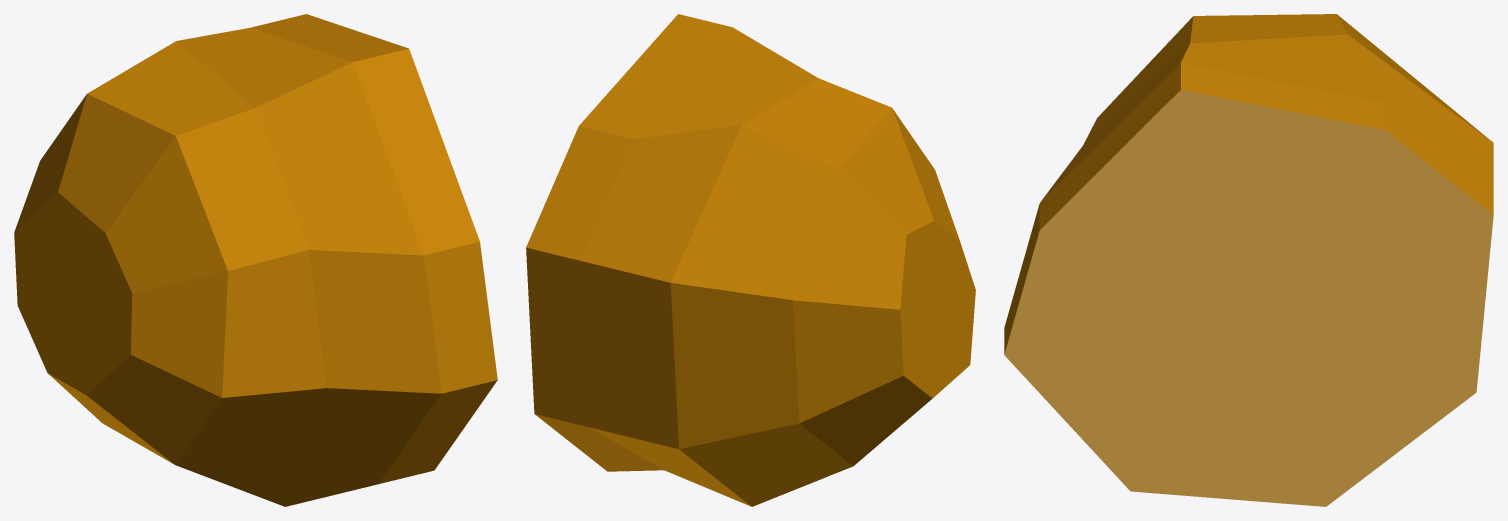
File: potato02.gltf
3 renders of one model, left to right at view 1: azimuth 30°, elevation 25°; view 2: azimuth 150°, elevation 25°; view 3: azimuth 270°, elevation 25°, orthographic. The views are drawn at different scales.
Parts seen in each view (by area): view 1: Cylinder.001; view 2: Cylinder.001; view 3: Cylinder.001.
Boxes of the visible parts, bbox=[...] form: Cylinder.001: bbox=[14, 14, 497, 506]; Cylinder.001: bbox=[526, 14, 975, 506]; Cylinder.001: bbox=[1004, 14, 1493, 506].
Size of the model in its own units: 0.0485 by 0.0622 by 0.0661.
1 material, 1 textured.
